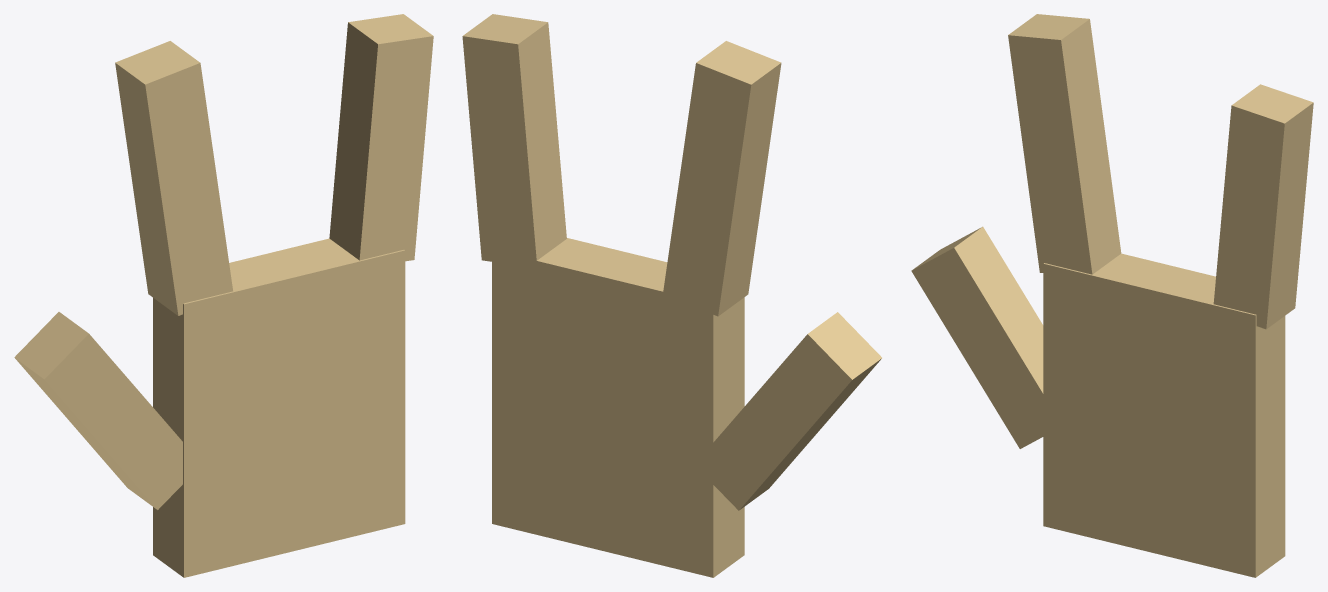
The model's file is hand_1_other.FBX.
3 views of the same model, side by side, from view 1: azimuth 30°, elevation 25°; view 2: azimuth 150°, elevation 25°; view 3: azimuth 330°, elevation 25° (orthographic). The views are drawn at different scales.
Parts seen in each view (by area): view 1: hand_1; view 2: hand_1; view 3: hand_1.
Part boxes in pixels (x1,y1,x2,y2): hand_1: (14, 14, 433, 577); hand_1: (462, 14, 881, 577); hand_1: (911, 14, 1313, 577).
Bounding box in the file's own units: 63.08 × 78.98 × 8.74.
